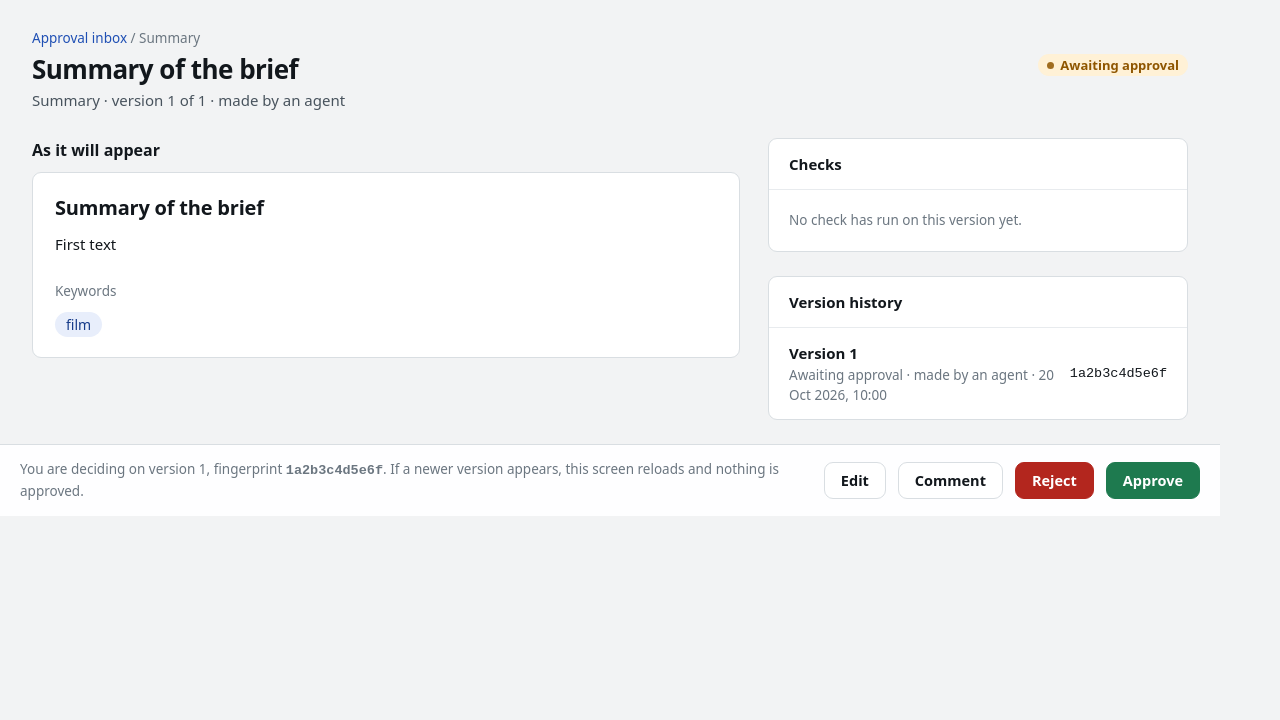
Test: the item screen, driven › approves the version on screen; on 409 it shows the new version and says so, approving nothing
Step 1. Click the button "Approve" → x=1153, y=480, box [1106,462,1200,499]
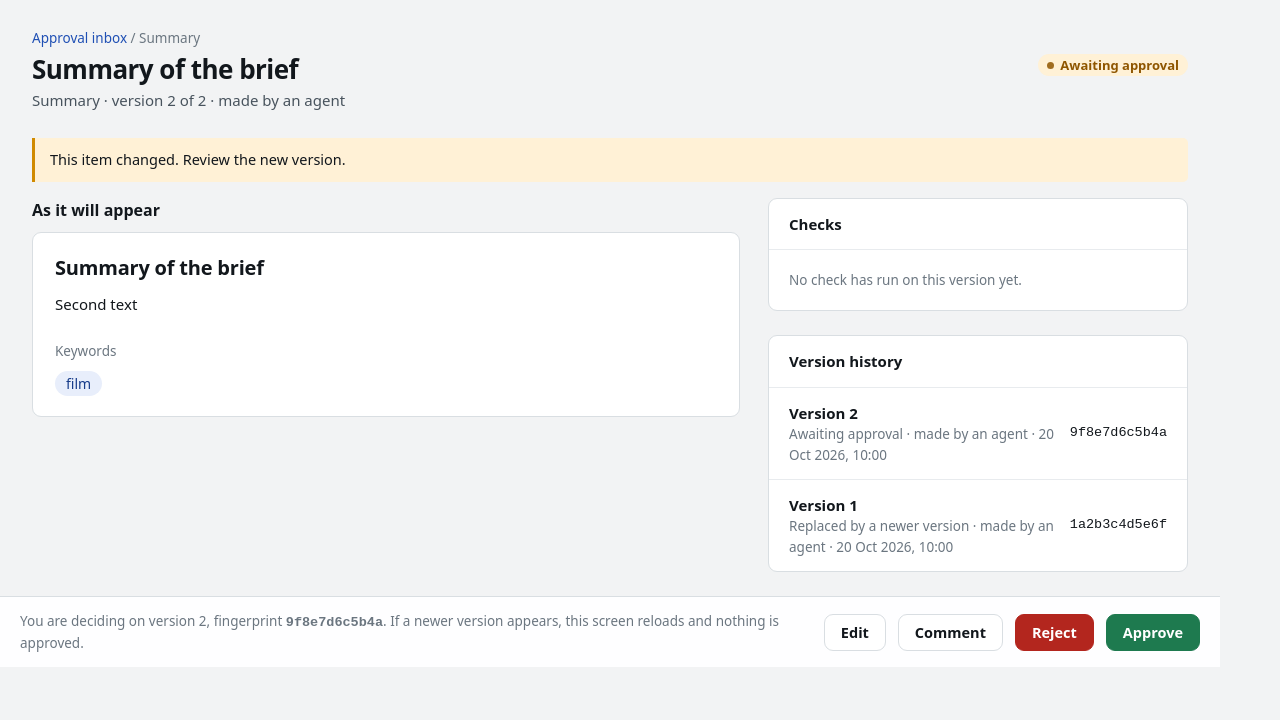
expect the text "This item changed. Review the new version." is shown: met, box [32,138,1188,182]
expect the text "9f8e7d6c5b4a" is shown: met, box [1070,423,1167,444]
expect the text "Second text" is shown: met, box [55,294,137,314]
